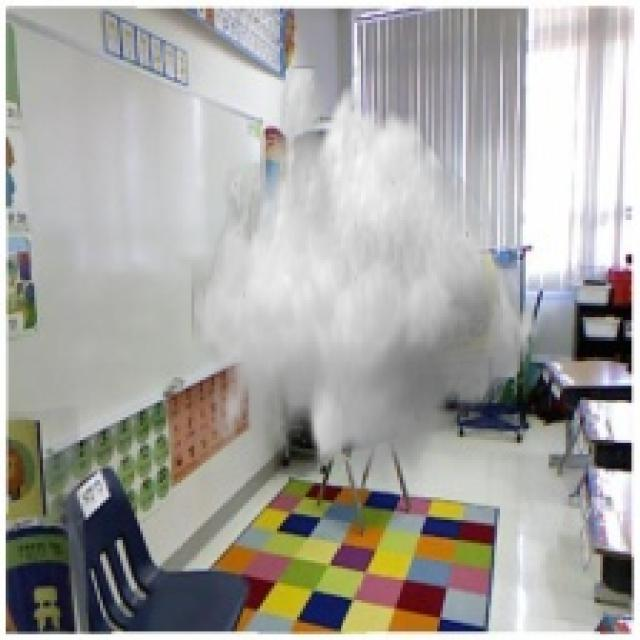smoke: (191, 66, 546, 483)
